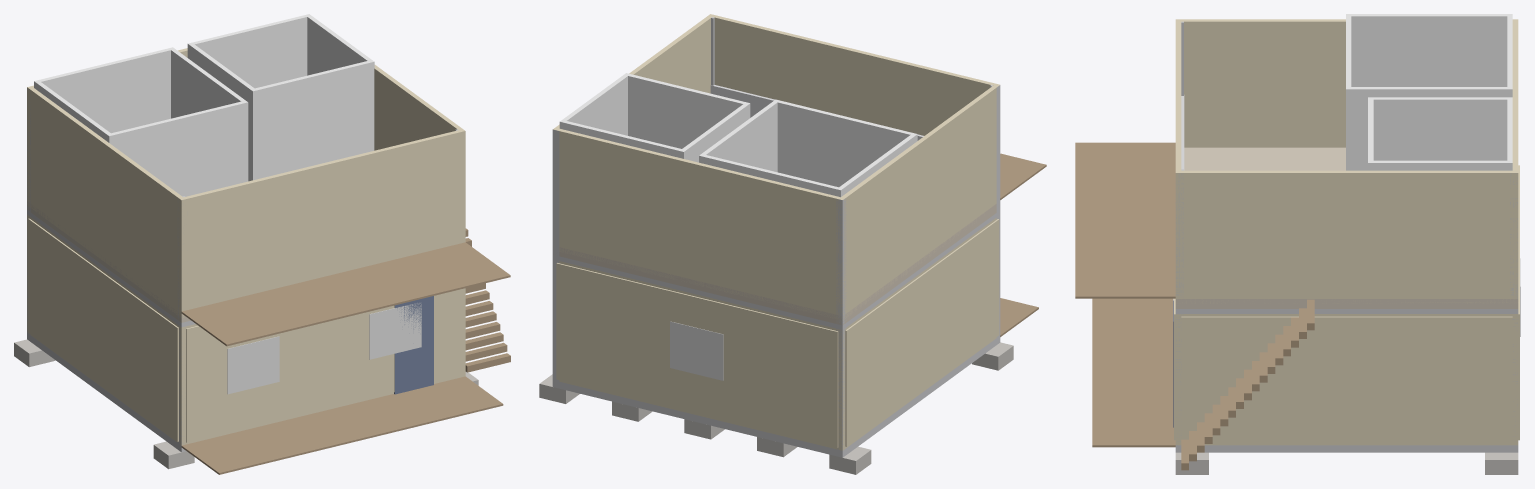
File: Duplex-20-Base-MicroGrainYellowSlate-LOD1.glb
3 renders of one model, left to right at view 1: azimuth 30°, elevation 25°; view 2: azimuth 150°, elevation 25°; view 3: azimuth 270°, elevation 25°, orthographic. The views are drawn at different scales.
Visible parts, largest first — view 1: ExteriorShellUpper, ExteriorPanelsStandard, StudyUpper, BedroomUpper, BalconyUpper, BalconyGround, WindowsStandard, StaircaseExternal, EntryDoor, ExteriorShell, FoundationBlocks, BaseFrame (+3 smaller); view 2: ExteriorShellUpper, ExteriorPanelsStandard, BedroomUpper, StudyUpper, VerticalStructure, FloorUpper, FoundationBlocks, BaseFrame, ExteriorShell, WindowsStandard, TopFrame, BalconyUpper (+2 smaller); view 3: ExteriorShellUpper, ExteriorPanelsStandard, BalconyUpper, BedroomUpper, BalconyGround, StudyUpper, FloorUpper, StaircaseExternal, ExteriorShell, BaseFrame, TopFrame, FoundationBlocks (+1 smaller).
Part boxes in pixels (box(x1,y1,x2,y2)): ExteriorShellUpper: box(27, 48, 465, 317); ExteriorPanelsStandard: box(28, 218, 461, 442); StudyUpper: box(187, 14, 374, 181); BedroomUpper: box(34, 47, 248, 196); BalconyUpper: box(181, 242, 510, 346); BalconyGround: box(181, 376, 503, 474); WindowsStandard: box(227, 303, 421, 394); StaircaseExternal: box(465, 228, 510, 372); EntryDoor: box(394, 296, 433, 394); ExteriorShell: box(27, 214, 465, 445); FoundationBlocks: box(14, 339, 478, 469); BaseFrame: box(27, 333, 186, 452); ExteriorShellUpper: box(553, 14, 999, 320); ExteriorPanelsStandard: box(556, 219, 999, 447); BedroomUpper: box(699, 99, 917, 197); StudyUpper: box(559, 73, 750, 162); VerticalStructure: box(552, 17, 1000, 449); FloorUpper: box(553, 204, 996, 325); FoundationBlocks: box(539, 342, 1013, 474); BaseFrame: box(552, 336, 1000, 457); ExteriorShell: box(553, 218, 996, 450); WindowsStandard: box(670, 321, 723, 380); TopFrame: box(559, 213, 996, 329); BalconyUpper: box(1000, 153, 1046, 199); ExteriorShellUpper: box(1175, 19, 1518, 303); ExteriorPanelsStandard: box(1174, 165, 1519, 443); BalconyUpper: box(1075, 142, 1175, 298); BedroomUpper: box(1346, 14, 1512, 170); BalconyGround: box(1092, 298, 1175, 447); StudyUpper: box(1368, 97, 1512, 170); FloorUpper: box(1175, 147, 1518, 308); StaircaseExternal: box(1181, 299, 1314, 470); ExteriorShell: box(1175, 314, 1518, 445); BaseFrame: box(1175, 445, 1518, 452); TopFrame: box(1175, 309, 1518, 313); FoundationBlocks: box(1175, 452, 1518, 474).
Size of the model in its own units: 7.94 by 6 by 8.
